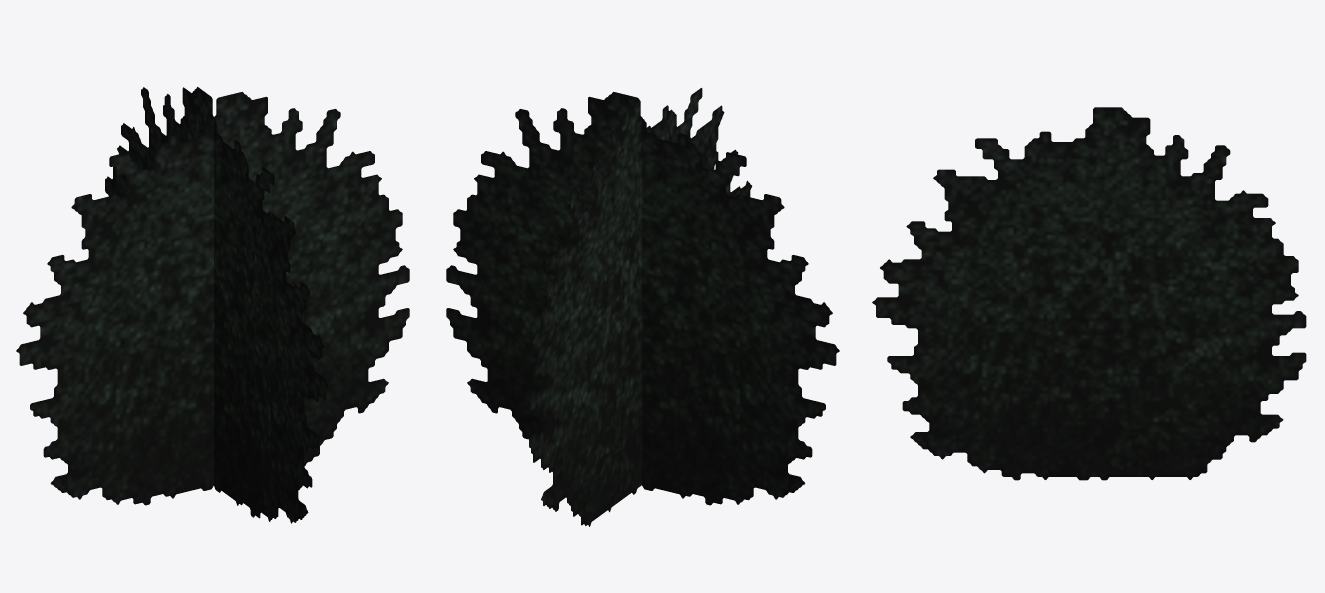
File: SM_EC_Scrubline_Bush_Cross_1.fbx
The picture shows the model from 3 angles, left to right: view 1: azimuth 30°, elevation 25°; view 2: azimuth 150°, elevation 25°; view 3: azimuth 270°, elevation 25°; orthographic projection. The views are drawn at different scales.
Visible parts, largest first — view 1: SM_EC_Scrubline_Bush_Cross_1; view 2: SM_EC_Scrubline_Bush_Cross_1; view 3: SM_EC_Scrubline_Bush_Cross_1.
Part boxes in pixels (bbox=[...]): SM_EC_Scrubline_Bush_Cross_1: bbox=[16, 87, 409, 523]; SM_EC_Scrubline_Bush_Cross_1: bbox=[446, 88, 839, 526]; SM_EC_Scrubline_Bush_Cross_1: bbox=[872, 107, 1306, 480].
Bounding box in the file's own units: 1.81 × 1.81 × 1.71.
